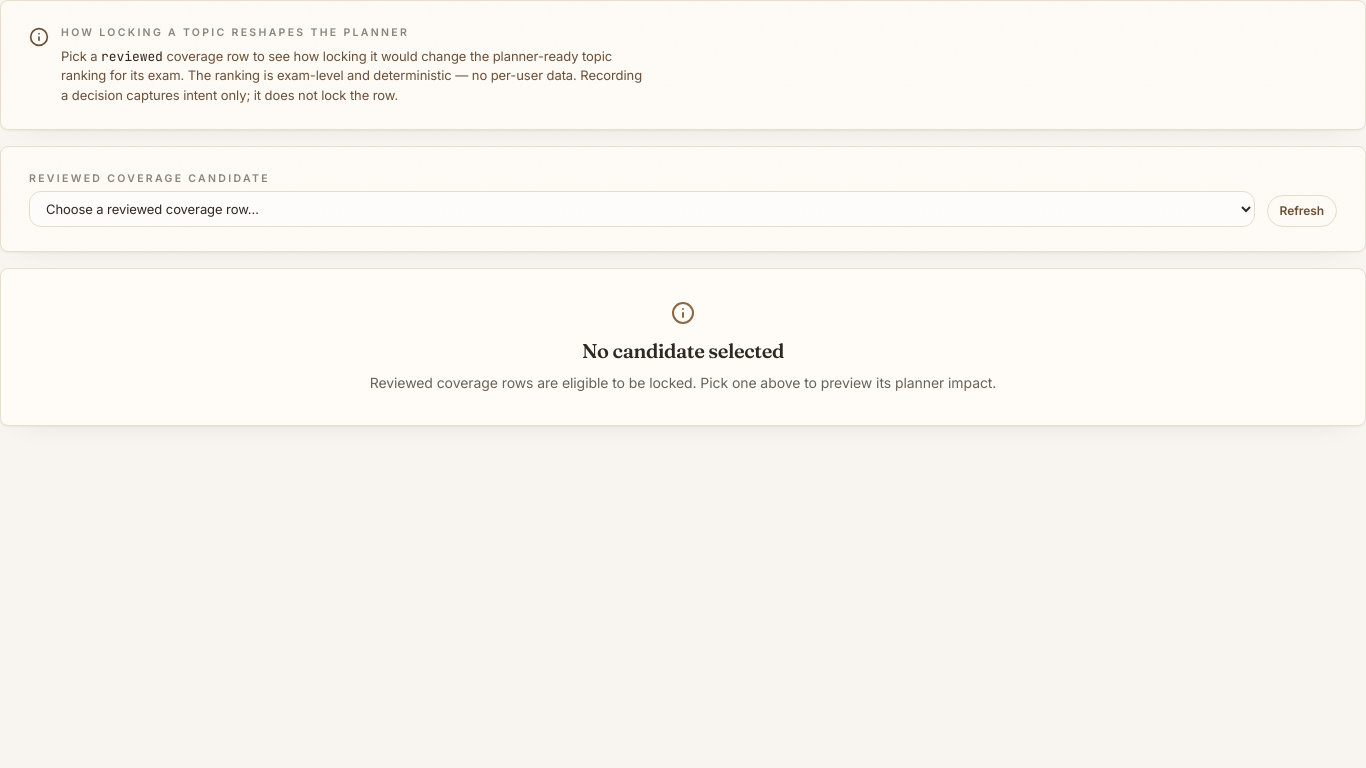
approve action is labelled as intent, never as a lock
This screenshot has width=1366, height=768.
Note: Select the candidate to load impact.
Select "SSC CGL · Percentage" in the dropdown. click: (642, 209)
box: [29,191,1255,227]
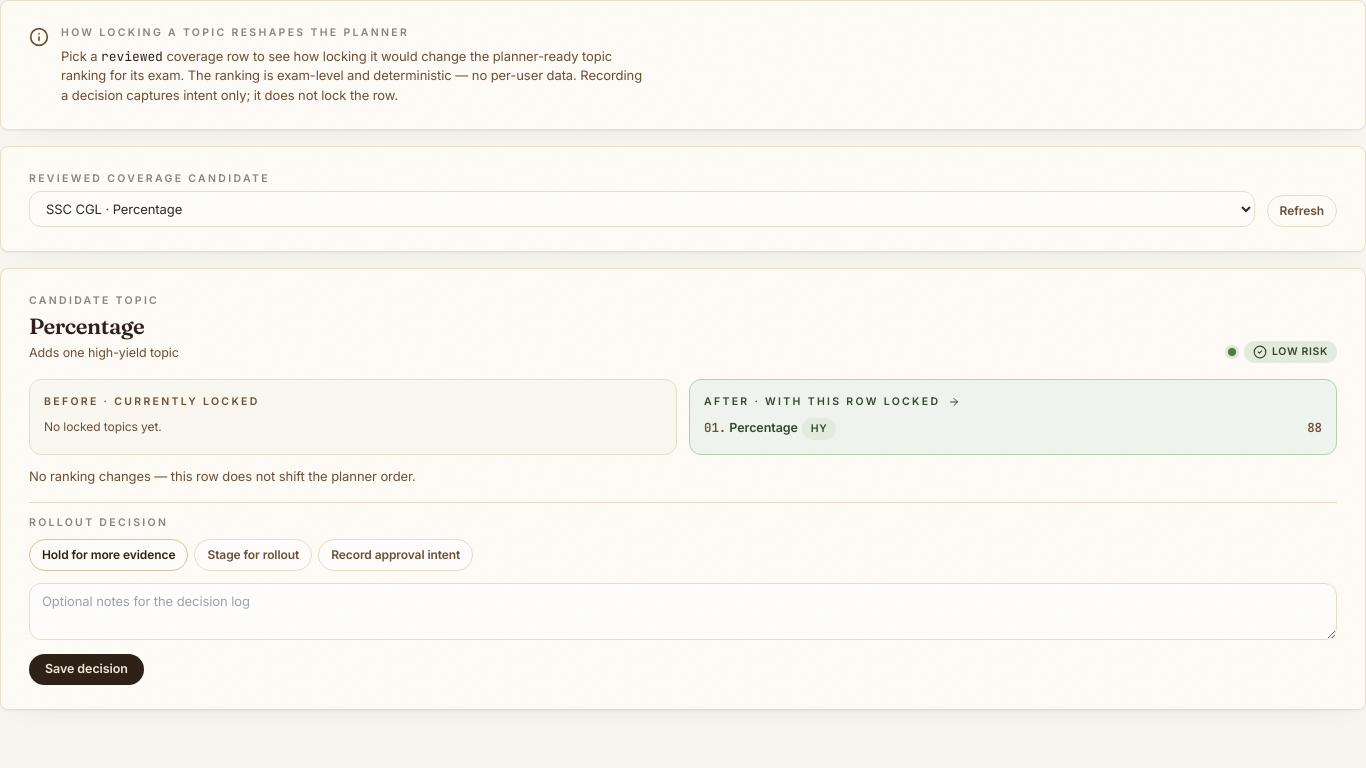
Now the button with test id "plan-impact-save-decision" is shown, box [29,654,144,685]
Now the radio button "Record approval intent" is shown, box [318,539,473,571]
